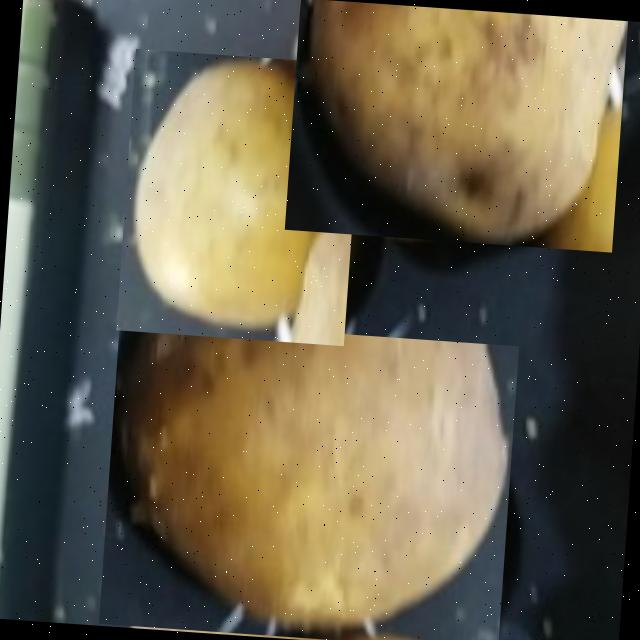Damaged potato: (97, 318, 517, 640), (283, 0, 626, 252)
Potato: (115, 48, 362, 346)
